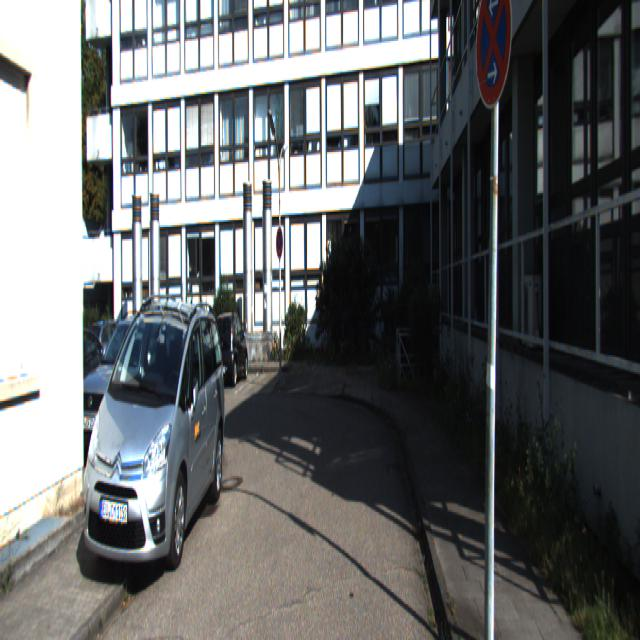Car: (71, 303, 228, 593), (59, 311, 168, 479), (210, 311, 248, 385)
